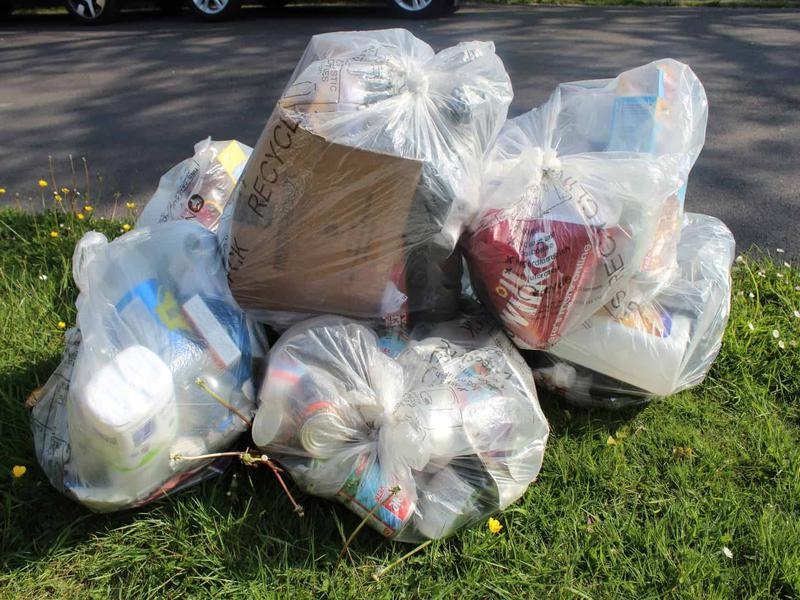plastic: (218, 24, 515, 335), (18, 215, 270, 517), (465, 50, 716, 353), (257, 306, 557, 549)
